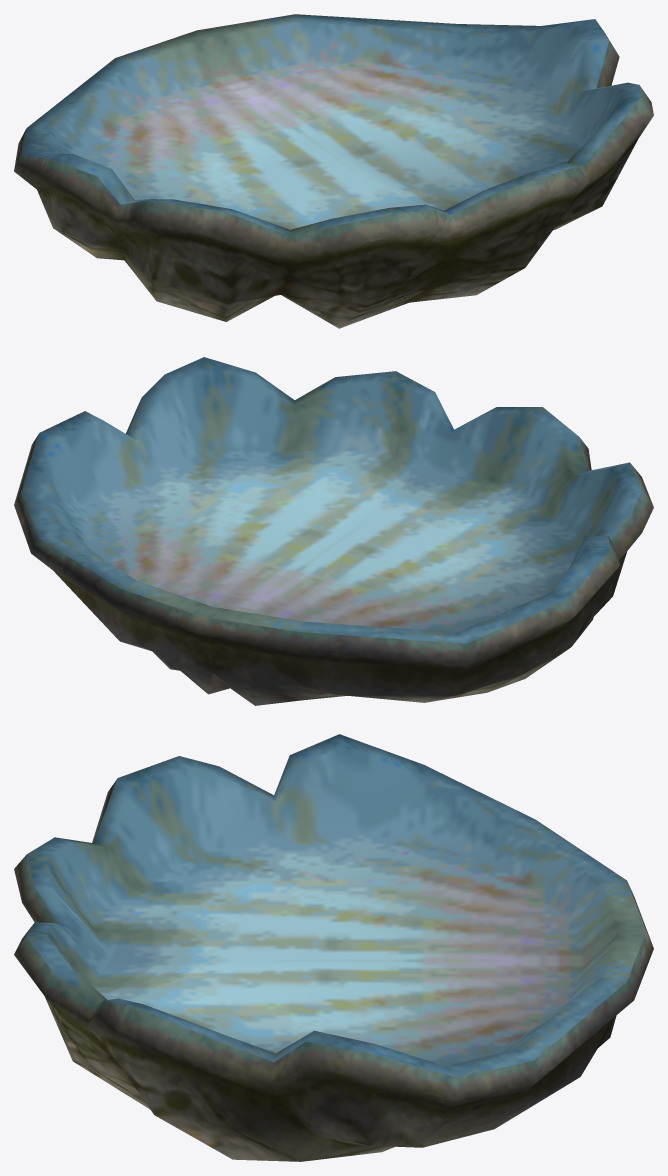
File: 5010_Item_beike_03.FBX
The picture shows the model from 3 angles, top to bottom: view 1: azimuth 30°, elevation 25°; view 2: azimuth 150°, elevation 25°; view 3: azimuth 270°, elevation 25°; orthographic projection. The views are drawn at different scales.
Parts seen in each view (by area): view 1: 5010_Item_beike_03; view 2: 5010_Item_beike_03; view 3: 5010_Item_beike_03.
Part boxes in pixels (bbox=[...]): 5010_Item_beike_03: bbox=[14, 14, 653, 328]; 5010_Item_beike_03: bbox=[14, 357, 653, 705]; 5010_Item_beike_03: bbox=[14, 734, 653, 1161].
Size of the model in its own units: 172 by 55.58 by 144.
